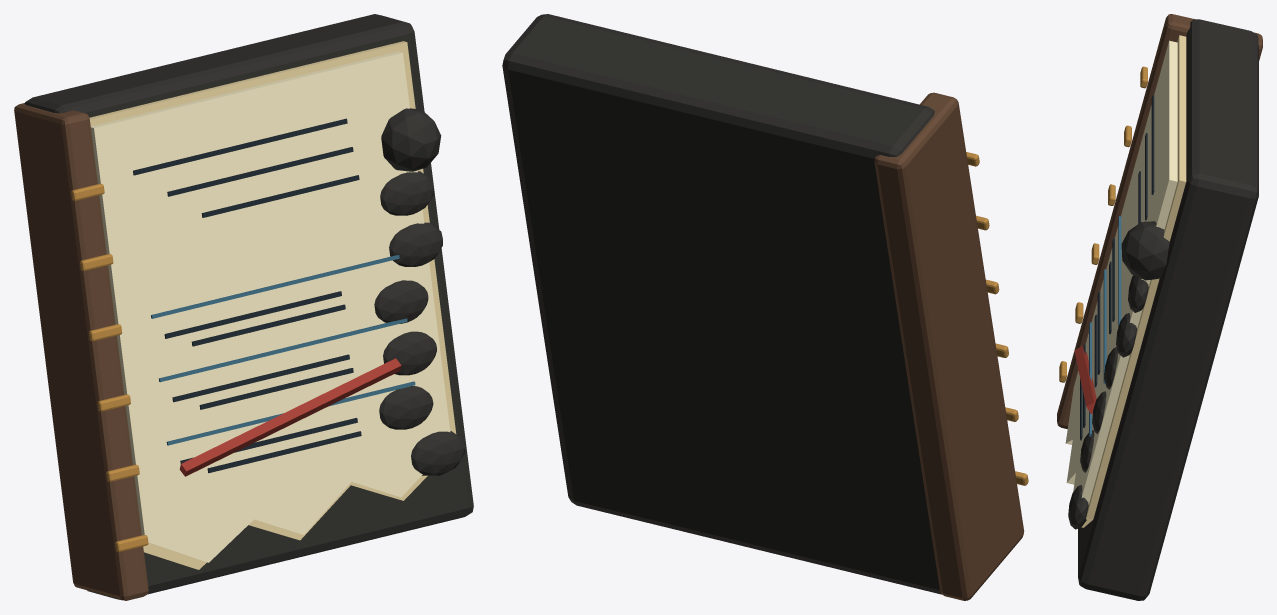
3 renders of one model, left to right at view 1: azimuth 30°, elevation 25°; view 2: azimuth 150°, elevation 25°; view 3: azimuth 270°, elevation 25°, orthographic. The views are drawn at different scales.
Parts seen in each view (by area): view 1: C2-01_pale, C2-01_char, C2-01_brown, C2-01_ink, C2-01_paper, C2-01_red, C2-01_blue, C2-01_brass; view 2: C2-01_char, C2-01_brown, C2-01_brass; view 3: C2-01_char, C2-01_pale, C2-01_brown, C2-01_paper, C2-01_ink, C2-01_blue, C2-01_brass, C2-01_red.
Part boxes in pixels (<box>): C2-01_pale: <box>91,51,450,562</box>; C2-01_char: <box>24,14,473,600</box>; C2-01_brown: <box>14,103,148,600</box>; C2-01_ink: <box>133,118,361,472</box>; C2-01_paper: <box>89,41,456,569</box>; C2-01_red: <box>179,358,401,476</box>; C2-01_blue: <box>151,255,415,445</box>; C2-01_brass: <box>71,183,148,551</box>; C2-01_char: <box>502,14,941,594</box>; C2-01_brown: <box>874,92,1024,600</box>; C2-01_brass: <box>966,152,1028,485</box>; C2-01_char: <box>1068,19,1258,600</box>; C2-01_pale: <box>1065,40,1177,504</box>; C2-01_brown: <box>1057,14,1262,428</box>; C2-01_paper: <box>1081,35,1186,527</box>; C2-01_ink: <box>1080,95,1154,440</box>; C2-01_blue: <box>1089,216,1121,436</box>; C2-01_brass: <box>1059,66,1147,382</box>; C2-01_red: <box>1074,346,1096,414</box>.
Size of the model in its own units: 0.359 by 0.43 by 0.1875.
